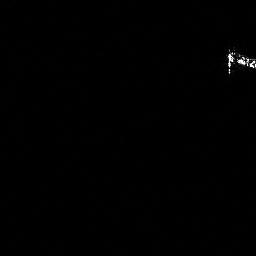ship: (223, 45, 256, 76)
